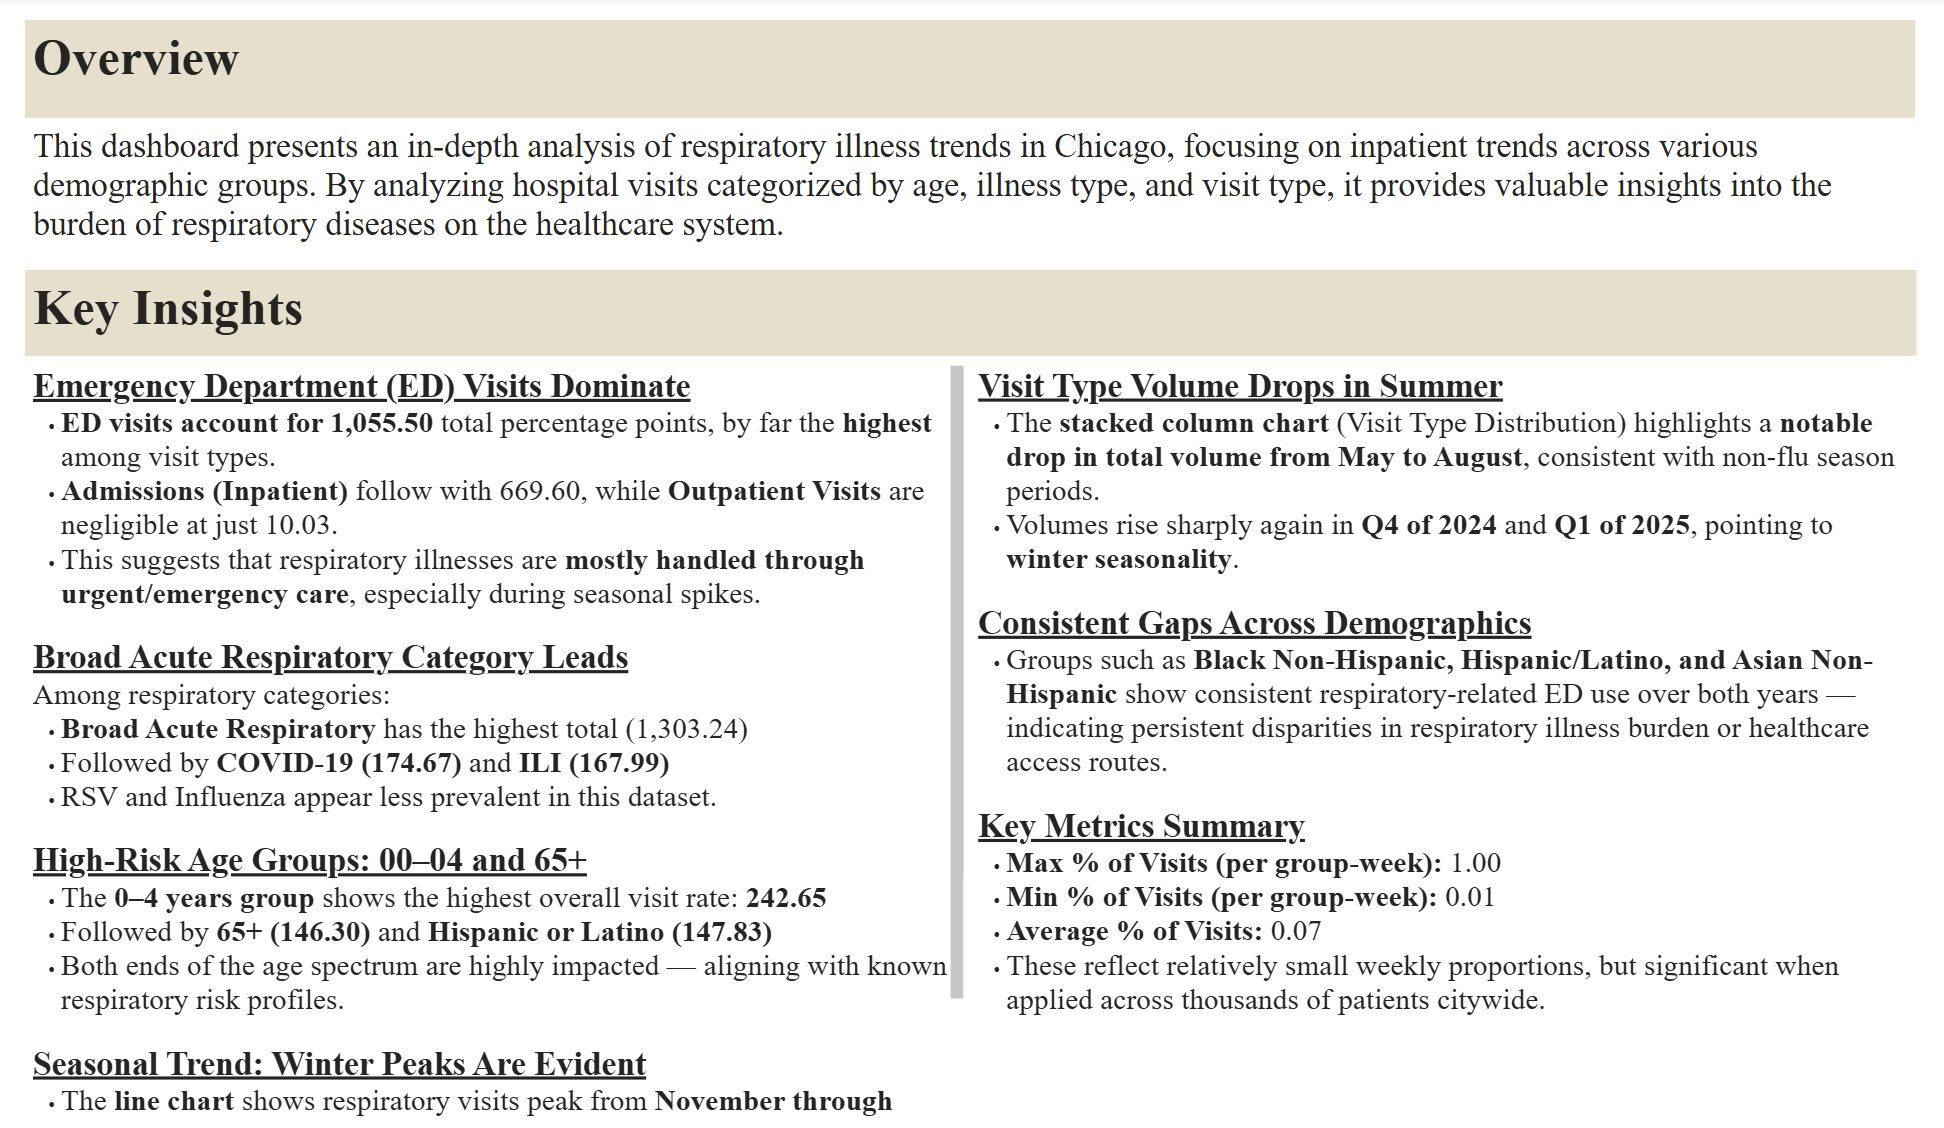

This screenshot's page, from the dashboard's own definition file:
{"tool":"powerbi","page":{"name":"Narrative Summary – Respiratory Illness Trends in Chicago","canvas":[1280,720],"ordinal":2},"visuals":[{"type":"textbox","box":[28.1,28.1,1199.4,49.6],"z":1},{"type":"textbox","box":[28.1,77.6,1199.4,97.5],"z":2},{"type":"textbox","box":[28.1,175.1,1199.4,54.5],"z":3},{"type":"textbox","box":[28.1,229.6,599.7,490.7],"z":4},{"type":"textbox","box":[627.8,229.6,599.7,490.7],"z":5}]}

Visuals, with their boxes on the page's 1280x720 design canvas (x1, y1, x2, y2). These are canvas units, not pixel positions in the 1944x1128 screenshot, which may show the page scaled, cropped or inside an application window:
textbox: (28, 28, 1228, 78)
textbox: (28, 78, 1228, 175)
textbox: (28, 175, 1228, 230)
textbox: (28, 230, 628, 720)
textbox: (628, 230, 1228, 720)
